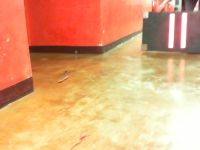switch: (180, 12, 187, 49), (168, 13, 175, 49)
